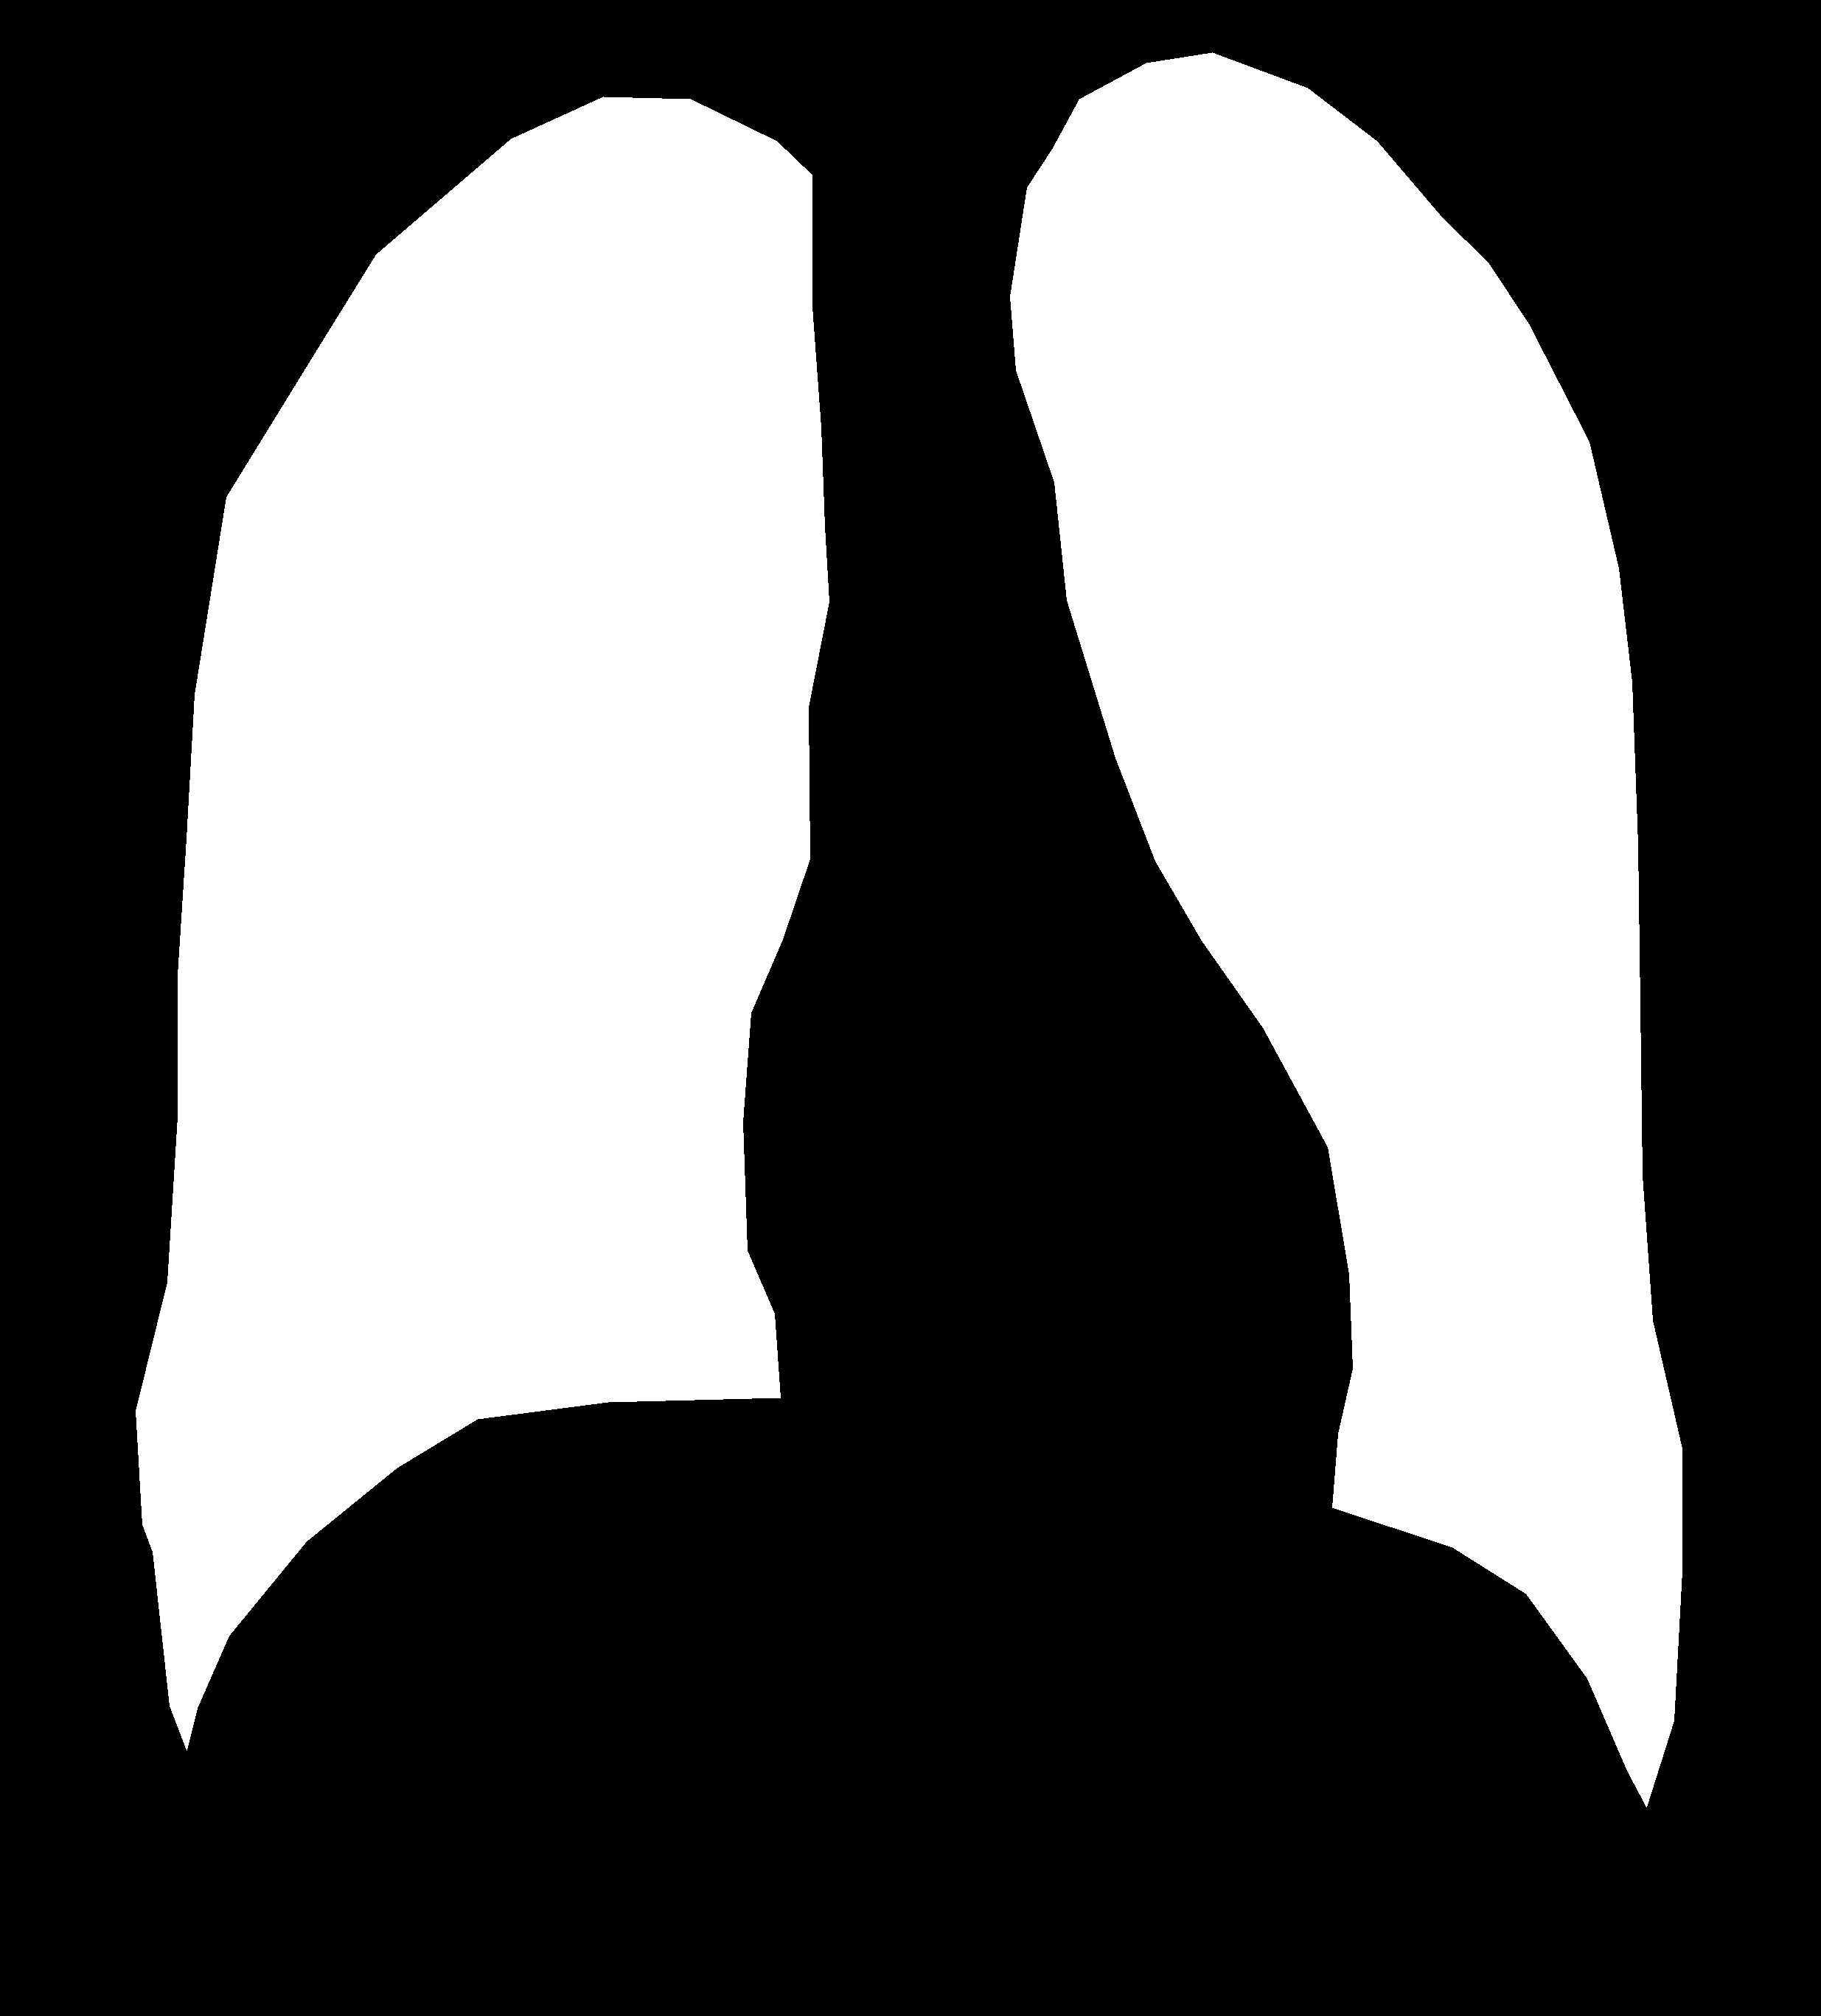heart: (743, 745, 1352, 1512)
left_lung: (135, 97, 829, 1749)
right_lung: (1010, 53, 1682, 1807)
